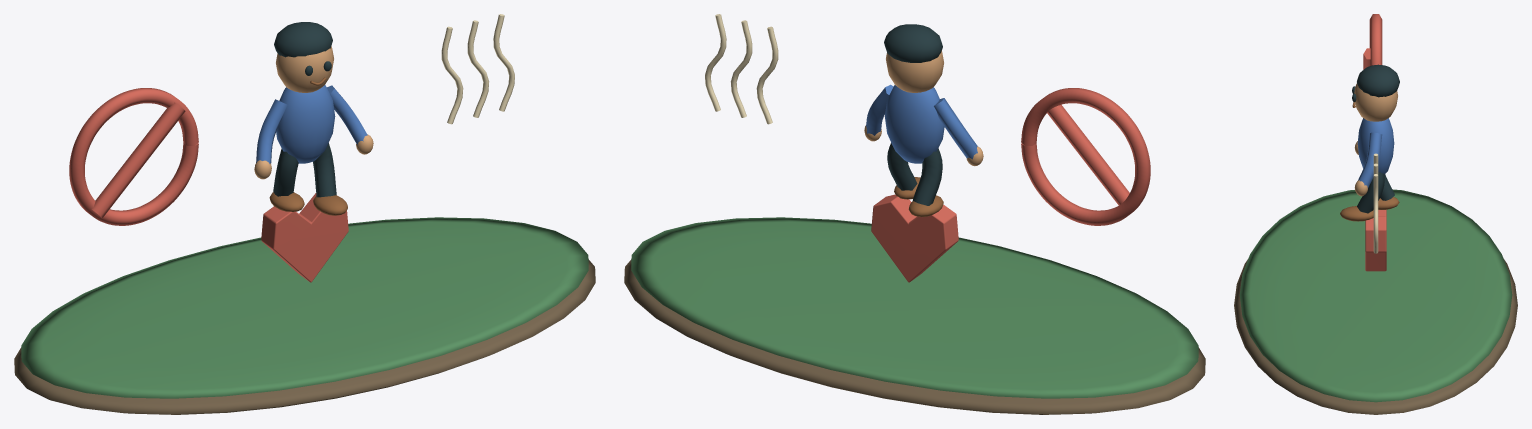
Rendered from complete-first-welcome-no-formality.glb.
3 views of the same model, side by side, from view 1: azimuth 30°, elevation 25°; view 2: azimuth 150°, elevation 25°; view 3: azimuth 270°, elevation 25° (orthographic). The views are drawn at different scales.
Parts seen in each view (by area): view 1: complete-first-welcome-no-formality_surface_01, complete-first-welcome-no-formality_surface_02, complete-first-welcome-no-formality_surface_00, complete-first-welcome-no-formality_surface_06, complete-first-welcome-no-formality_surface_04, complete-first-welcome-no-formality_surface_03, complete-first-welcome-no-formality_surface_07, complete-first-welcome-no-formality_surface_05; view 2: complete-first-welcome-no-formality_surface_01, complete-first-welcome-no-formality_surface_02, complete-first-welcome-no-formality_surface_00, complete-first-welcome-no-formality_surface_06, complete-first-welcome-no-formality_surface_04, complete-first-welcome-no-formality_surface_07, complete-first-welcome-no-formality_surface_03, complete-first-welcome-no-formality_surface_05; view 3: complete-first-welcome-no-formality_surface_01, complete-first-welcome-no-formality_surface_00, complete-first-welcome-no-formality_surface_02, complete-first-welcome-no-formality_surface_04, complete-first-welcome-no-formality_surface_06, complete-first-welcome-no-formality_surface_03, complete-first-welcome-no-formality_surface_05, complete-first-welcome-no-formality_surface_07.
Boxes of the visible parts, box(x1,y1,x2,y2) form: complete-first-welcome-no-formality_surface_01: box(21, 217, 588, 398); complete-first-welcome-no-formality_surface_02: box(69, 88, 348, 282); complete-first-welcome-no-formality_surface_00: box(14, 259, 595, 414); complete-first-welcome-no-formality_surface_06: box(256, 85, 367, 163); complete-first-welcome-no-formality_surface_04: box(273, 22, 336, 197); complete-first-welcome-no-formality_surface_03: box(254, 46, 373, 179); complete-first-welcome-no-formality_surface_07: box(441, 14, 514, 124); complete-first-welcome-no-formality_surface_05: box(269, 77, 347, 215); complete-first-welcome-no-formality_surface_01: box(631, 217, 1198, 398); complete-first-welcome-no-formality_surface_02: box(871, 88, 1150, 282); complete-first-welcome-no-formality_surface_00: box(624, 259, 1205, 414); complete-first-welcome-no-formality_surface_06: box(866, 84, 977, 163); complete-first-welcome-no-formality_surface_04: box(884, 24, 942, 205); complete-first-welcome-no-formality_surface_07: box(705, 14, 778, 124); complete-first-welcome-no-formality_surface_03: box(864, 50, 983, 166); complete-first-welcome-no-formality_surface_05: box(894, 177, 943, 216); complete-first-welcome-no-formality_surface_01: box(1239, 189, 1512, 402); complete-first-welcome-no-formality_surface_00: box(1234, 259, 1517, 414); complete-first-welcome-no-formality_surface_02: box(1363, 14, 1386, 271); complete-first-welcome-no-formality_surface_04: box(1352, 64, 1399, 213); complete-first-welcome-no-formality_surface_06: box(1357, 118, 1394, 187); complete-first-welcome-no-formality_surface_03: box(1354, 83, 1397, 196); complete-first-welcome-no-formality_surface_05: box(1340, 102, 1399, 221); complete-first-welcome-no-formality_surface_07: box(1373, 153, 1378, 253).
Bounding box in the file's own units: 4.56 × 2.44 × 2.5.
